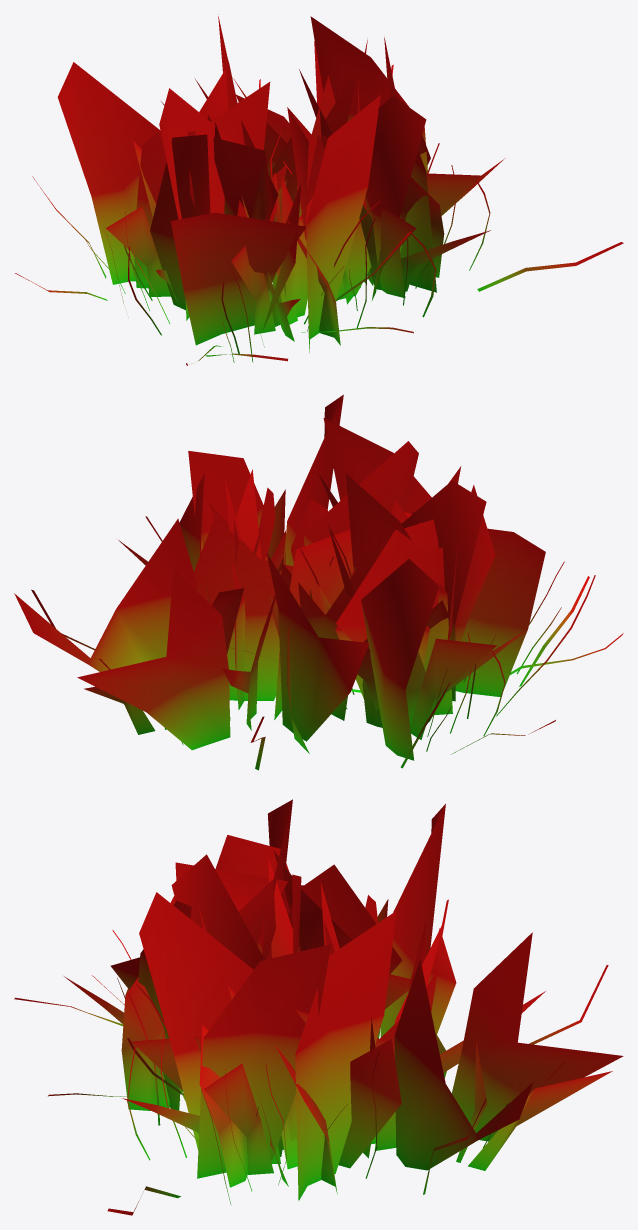
The model's file is Tundra Grass_LOD5_Var30_wk2oaeyqx.fbx.
3 renders of one model, top to bottom at view 1: azimuth 30°, elevation 25°; view 2: azimuth 150°, elevation 25°; view 3: azimuth 270°, elevation 25°, orthographic. The views are drawn at different scales.
Visible parts, largest first — view 1: _ru0x_Var30_LOD5; view 2: _ru0x_Var30_LOD5; view 3: _ru0x_Var30_LOD5.
Boxes of the visible parts, <box> form: _ru0x_Var30_LOD5: <box>15,14,623,365</box>; _ru0x_Var30_LOD5: <box>14,394,623,770</box>; _ru0x_Var30_LOD5: <box>14,799,623,1215</box>.
Bounding box in the file's own units: 43.54 × 19.17 × 41.14.
